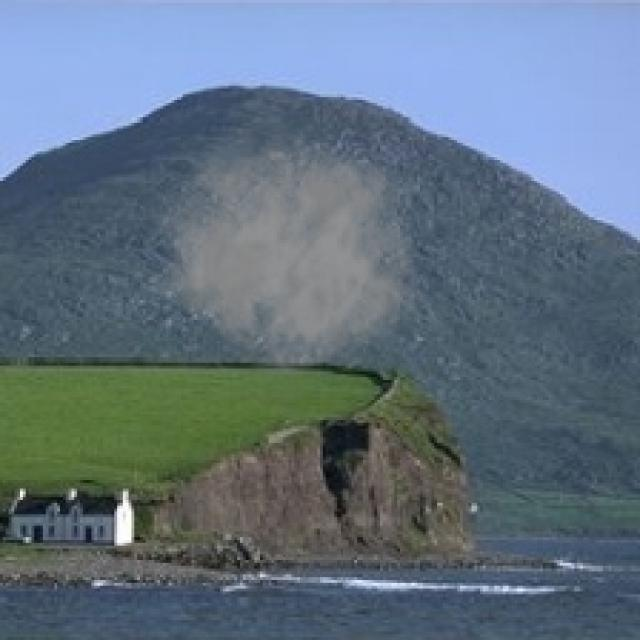Smoke: (143, 111, 426, 378)
